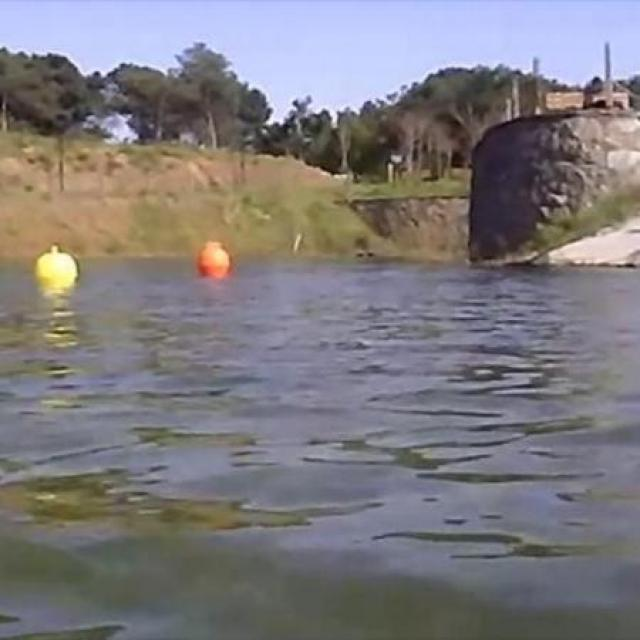buoy: (32, 242, 80, 292), (196, 242, 230, 280)
